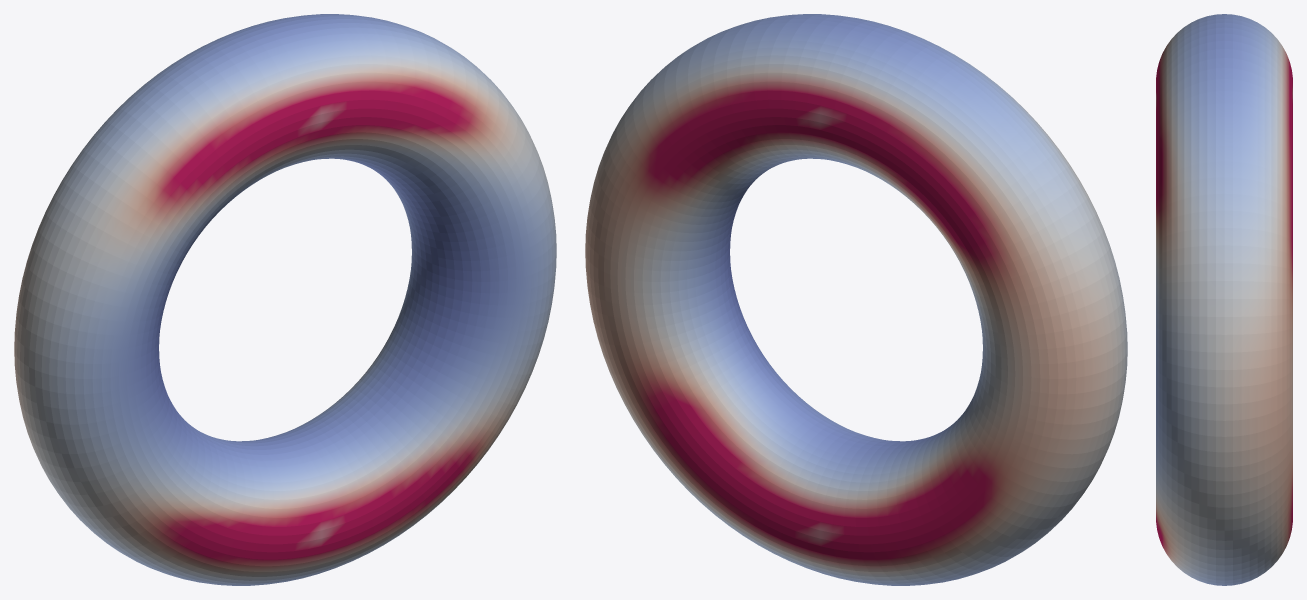
The picture shows the model from 3 angles, left to right: view 1: azimuth 30°, elevation 25°; view 2: azimuth 150°, elevation 25°; view 3: azimuth 270°, elevation 25°; orthographic projection. The views are drawn at different scales.
Visible parts, largest first — view 1: world; view 2: world; view 3: world.
Boxes of the visible parts, x1,y1,x2,y2 form: world: [14, 14, 556, 585]; world: [585, 14, 1127, 585]; world: [1156, 14, 1292, 585].
Bounding box in the file's own units: 22.8 × 22.8 × 5.46.
